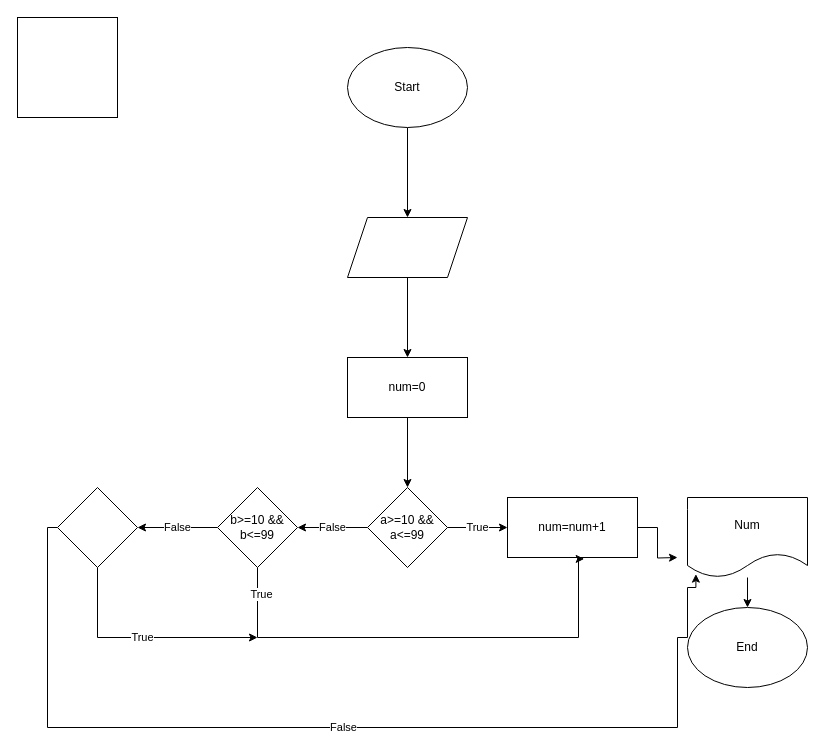
Some shapes in this 825 by 753 pixel diagram are drawn without their labels. Each missing label, with the centre of its shape:
"a b c" belongs at [407,247].
"c>=10 && c<=99" belongs at [97,527].
"verilmish 3 eded icherisinden necesi 2reqemli ve musbetdir" belongs at [67,67].
